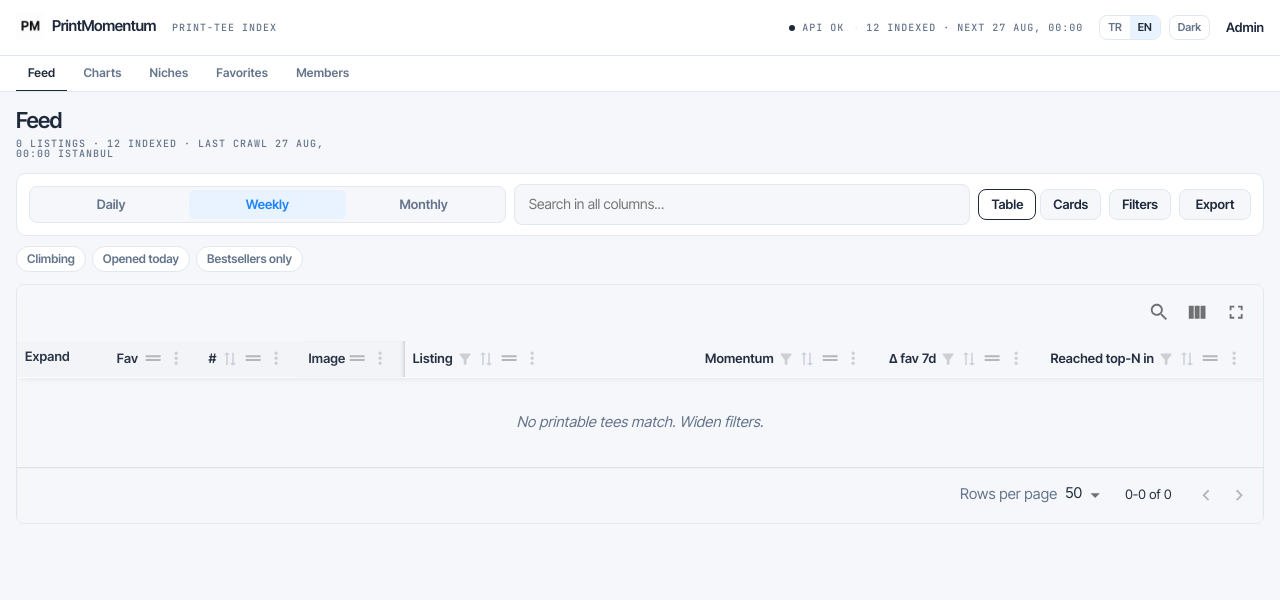
Test: AppRoutes › lets admin open members then create-user
The width and height of the screenshot is (1280, 600).
Click the link "Members".
click(323, 72)  # box [296, 65, 349, 80]
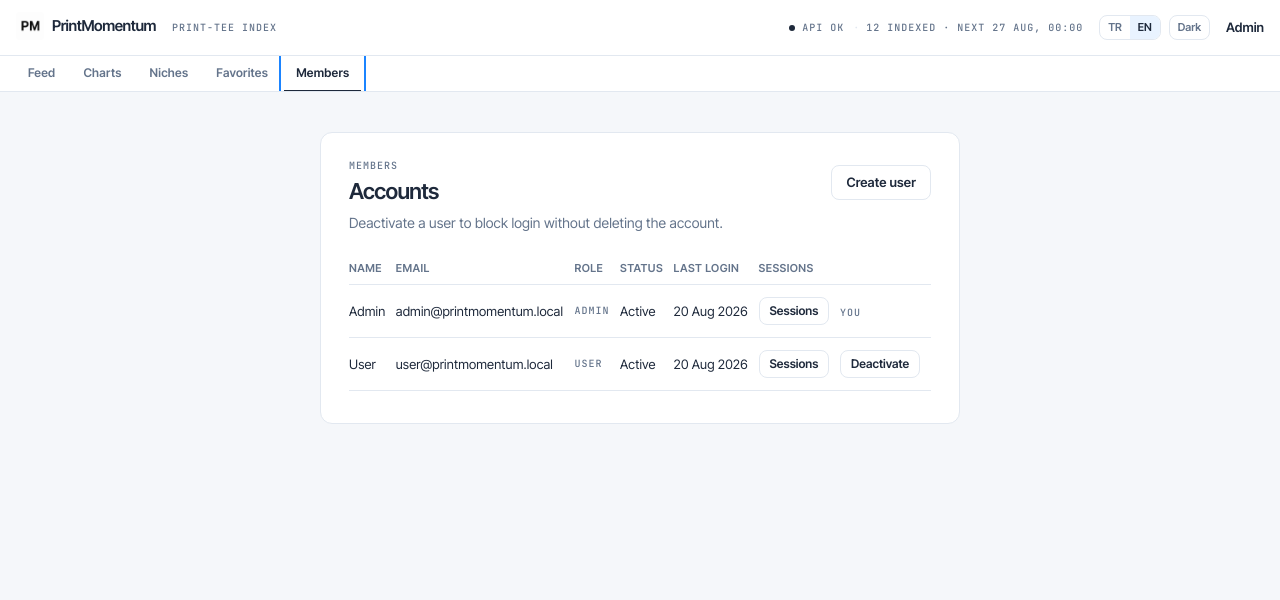
Expected: the heading "Accounts" is shown, [349, 178, 439, 204]
Click the link "Create user".
click(881, 182)  # box [831, 165, 931, 200]
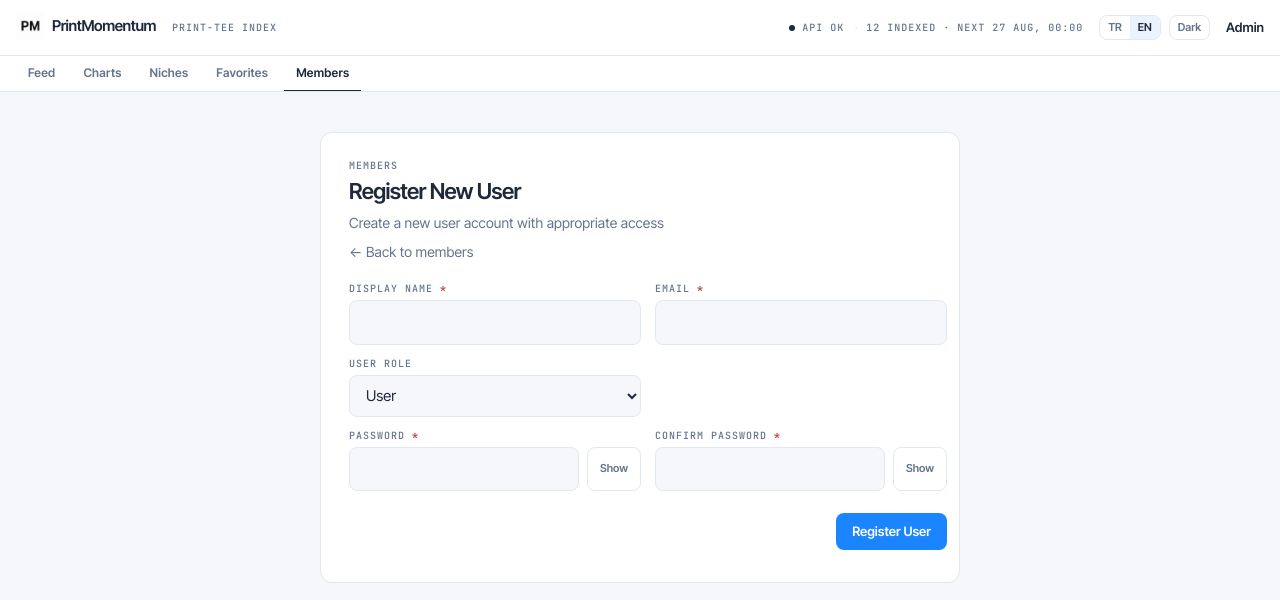
Expected: the heading "Register New User" is shown, [349, 178, 521, 204]
